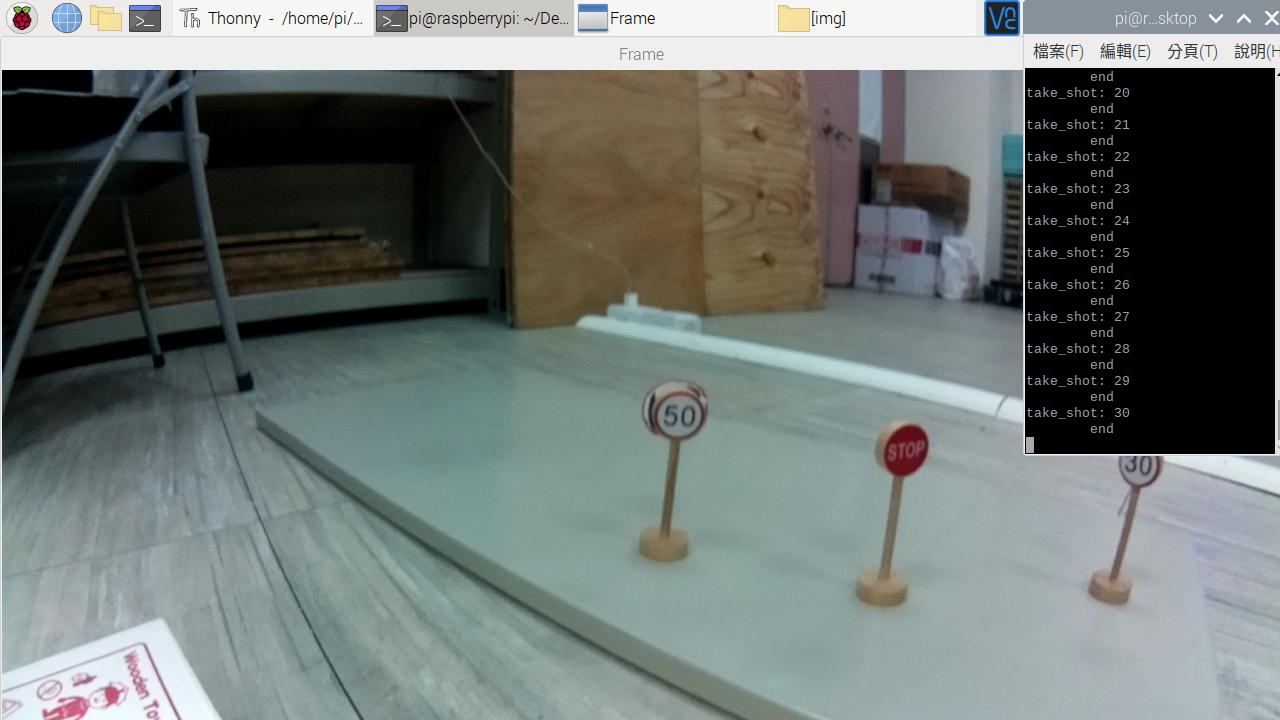Speed50: (659, 387, 702, 442)
Stop: (881, 417, 928, 485)
